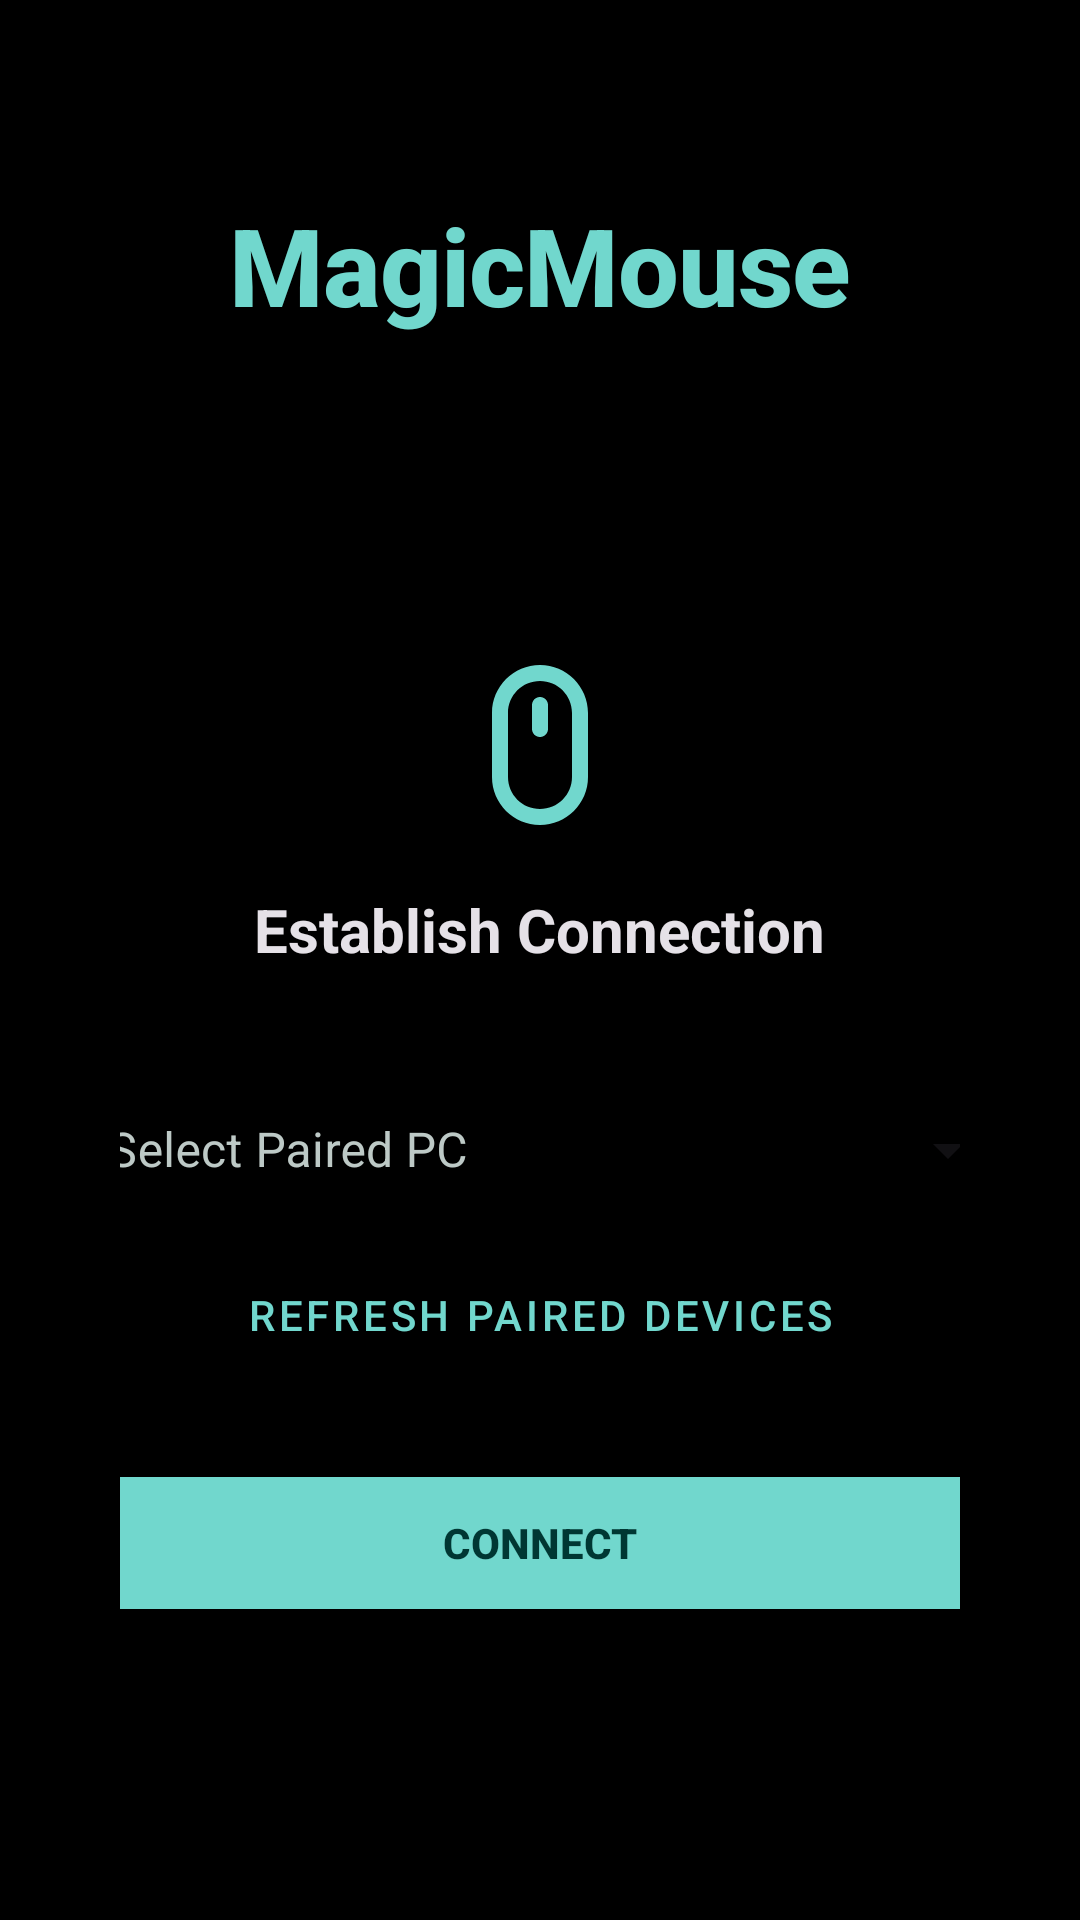

Icons on this 1080px×1920px Android screen, each with its box as (x1, y1, x2, y2):
mouse: (492, 665, 588, 825)
